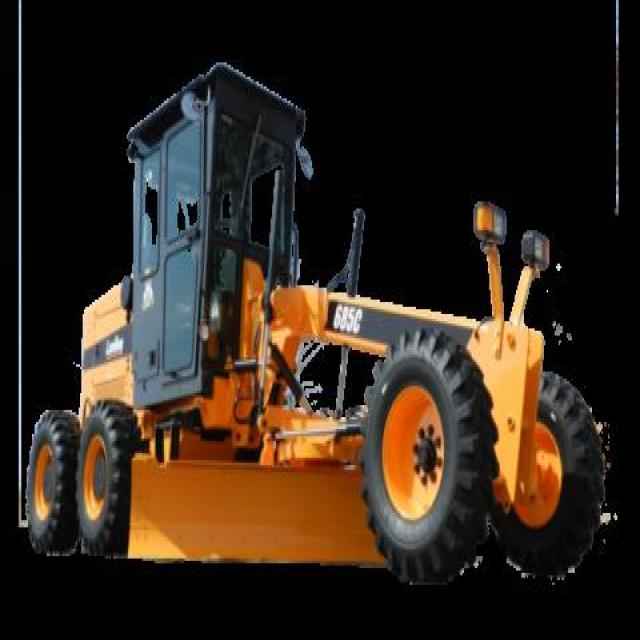buldozerpayloadergrader: (8, 43, 639, 638)
